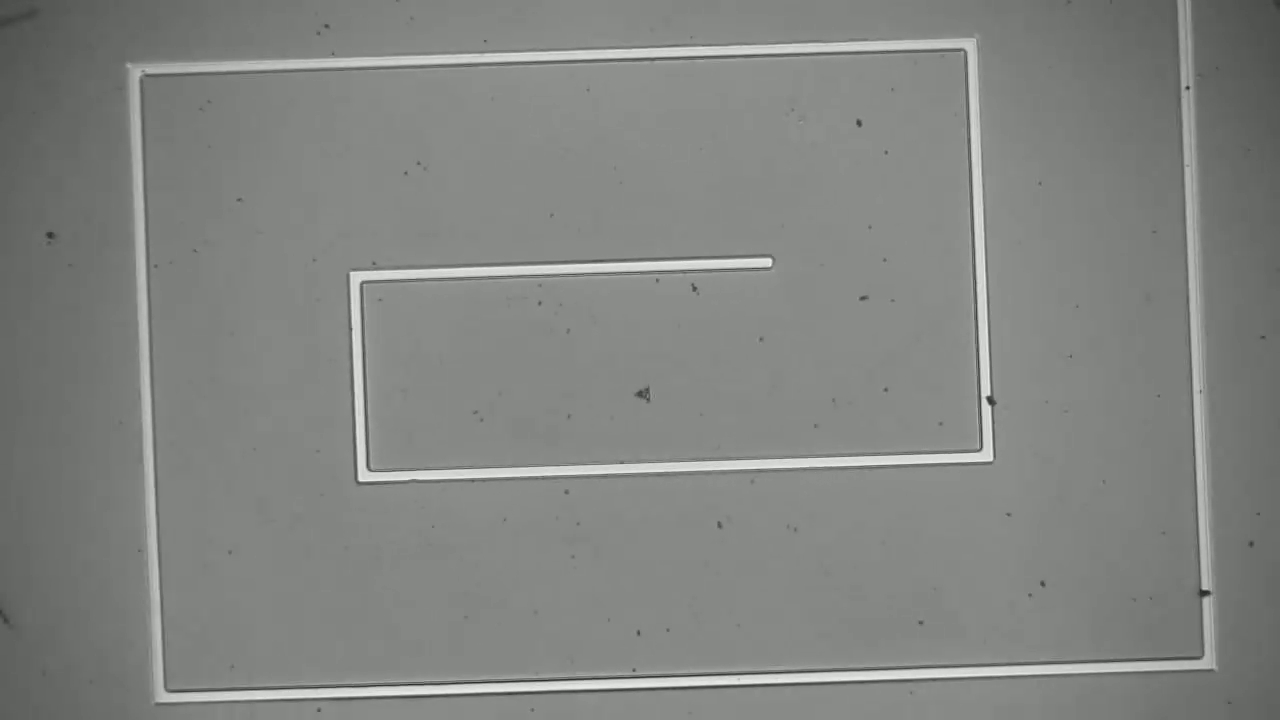stains_enbedded: (969, 388, 1002, 409), (1196, 580, 1218, 603)
